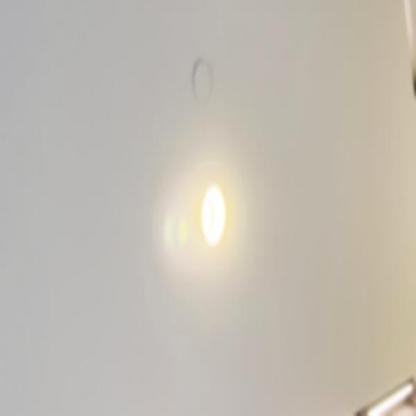light_on: (196, 163, 234, 265)
